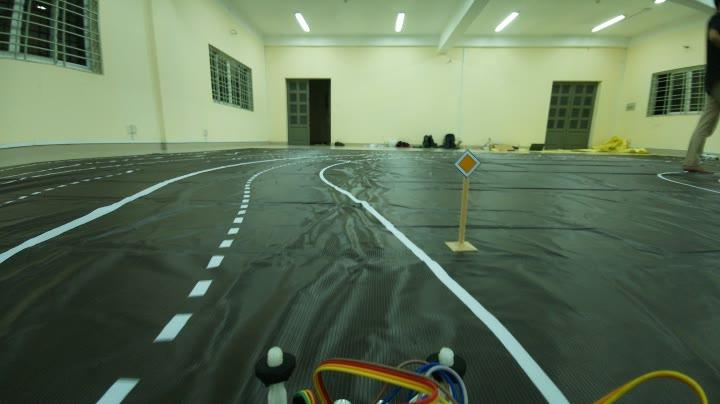priority: (450, 143, 479, 184)
